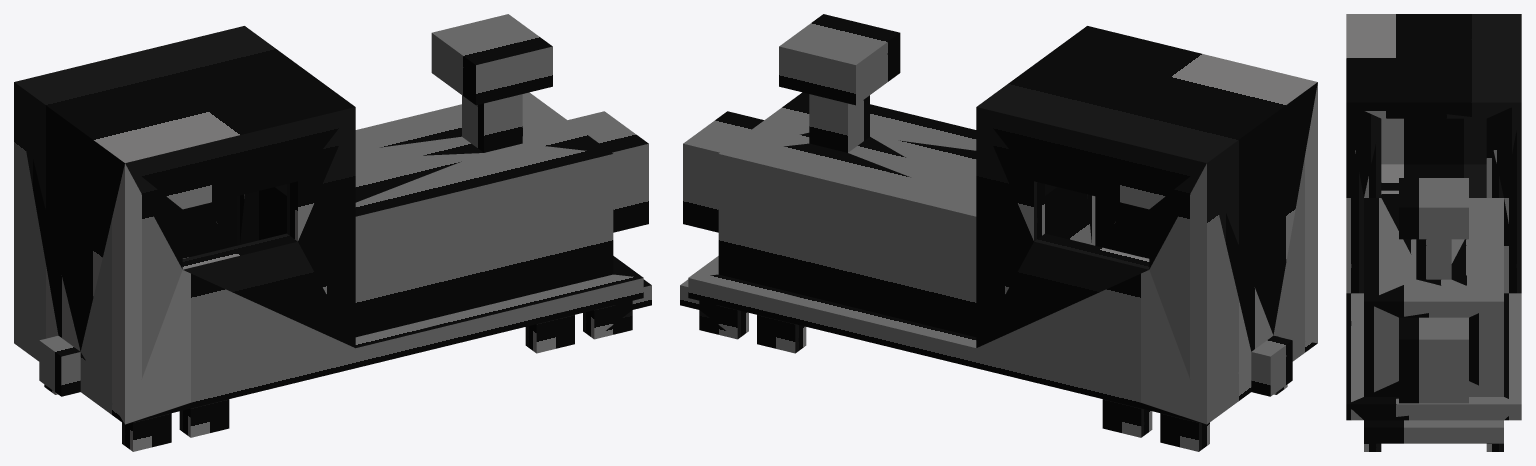
The model's file is train_engine_coal.dae.
3 renders of one model, left to right at view 1: azimuth 30°, elevation 25°; view 2: azimuth 150°, elevation 25°; view 3: azimuth 270°, elevation 25°, orthographic. The views are drawn at different scales.
Visible parts, largest first — view 1: train_engine_coal; view 2: train_engine_coal; view 3: train_engine_coal.
Boxes of the visible parts, left/top/right/bottom form: train_engine_coal: left=14, top=14, right=651, bottom=451; train_engine_coal: left=680, top=14, right=1317, bottom=451; train_engine_coal: left=1346, top=14, right=1521, bottom=451.
Size of the model in its own units: 3 by 1 by 1.5.
Materials: 1 (1 with a texture image).
